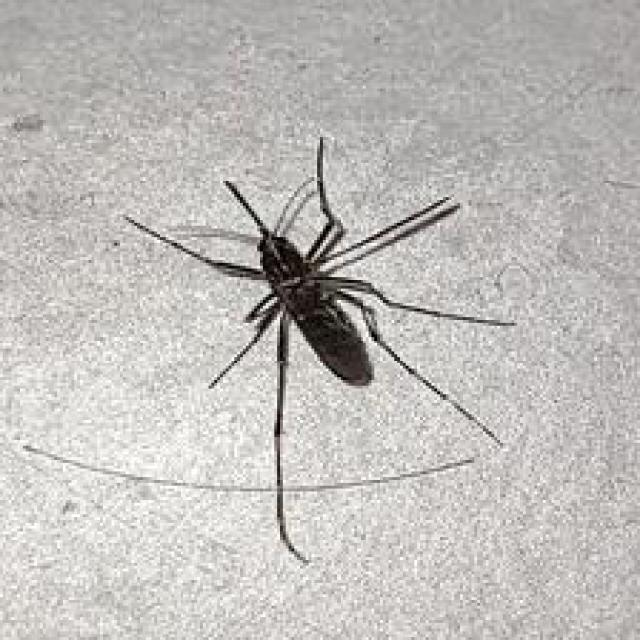Aedes albopictus: (23, 133, 517, 564)
